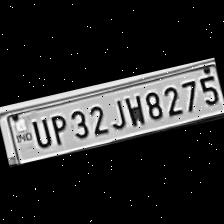2: (83, 99, 111, 138), (158, 82, 184, 120)
3: (64, 104, 91, 142)
5: (194, 71, 221, 109)
7: (176, 76, 200, 114)
8: (138, 87, 164, 123)
J: (104, 94, 130, 132)
P: (46, 110, 72, 147)
U: (26, 114, 54, 152)
W: (120, 90, 148, 128)
